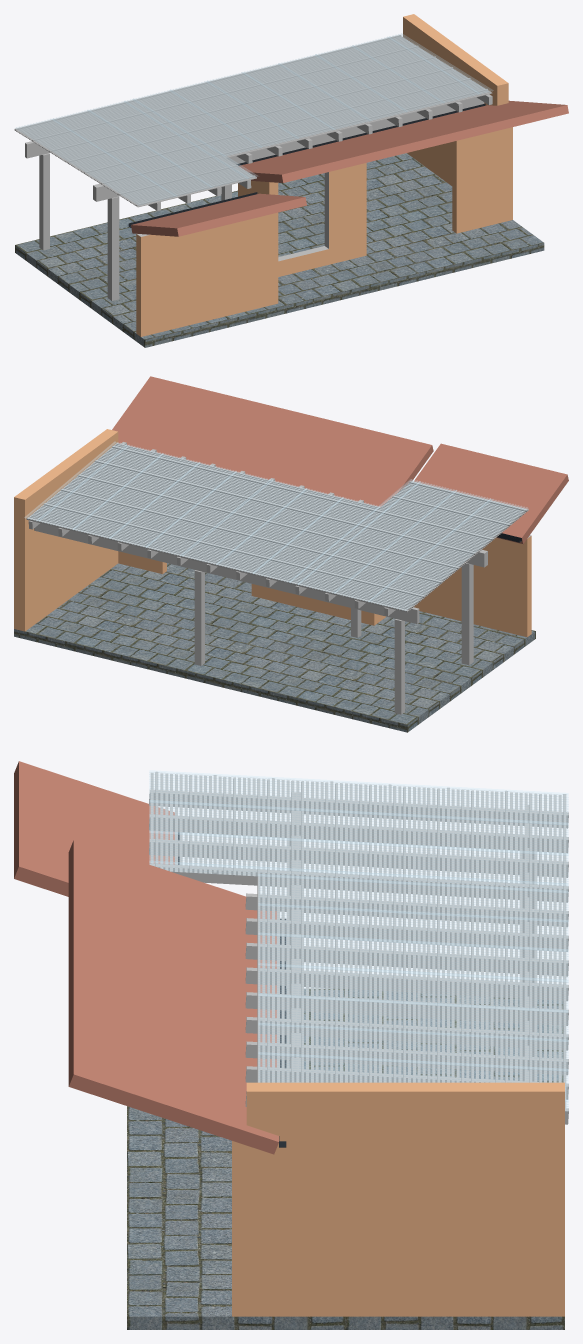
File: Pergola_build_v1.gltf
The picture shows the model from 3 angles, top to bottom: view 1: azimuth 30°, elevation 25°; view 2: azimuth 150°, elevation 25°; view 3: azimuth 270°, elevation 25°; orthographic projection. The views are drawn at different scales.
Visible parts, largest first — view 1: Pergola_Concept_no_rear_beam_3_posrts_rear_BH_WAVE_5_EDITABL; view 2: Pergola_Concept_no_rear_beam_3_posrts_rear_BH_WAVE_5_EDITABL; view 3: Pergola_Concept_no_rear_beam_3_posrts_rear_BH_WAVE_5_EDITABL.
Boxes of the visible parts, x1=… form: Pergola_Concept_no_rear_beam_3_posrts_rear_BH_WAVE_5_EDITABL: x1=14, y1=14, x2=568, y2=347; Pergola_Concept_no_rear_beam_3_posrts_rear_BH_WAVE_5_EDITABL: x1=14, y1=376, x2=568, y2=732; Pergola_Concept_no_rear_beam_3_posrts_rear_BH_WAVE_5_EDITABL: x1=14, y1=761, x2=568, y2=1329.
Size of the model in its own units: 10.83 by 3.96 by 7.6.
